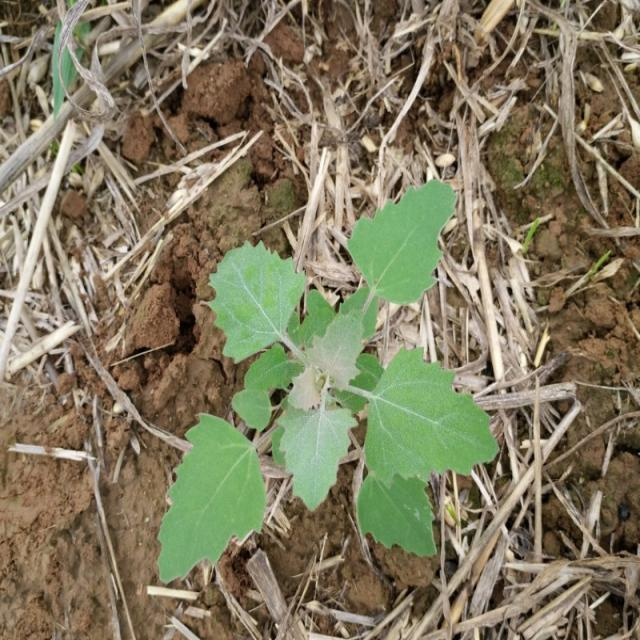goosefoots: (140, 173, 510, 591)
